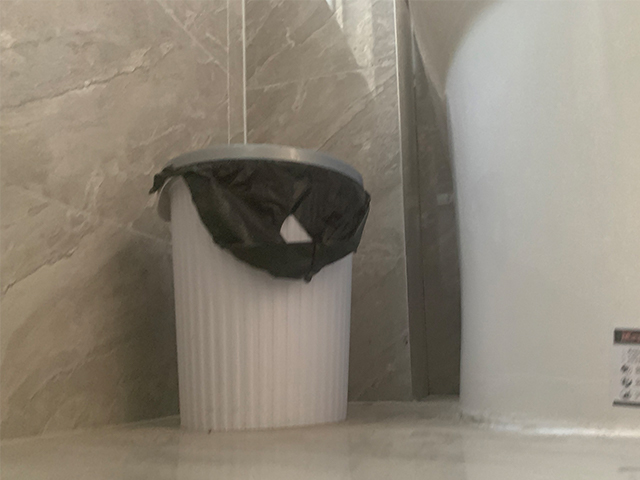closestool: (407, 1, 640, 438)
trashcan: (153, 144, 363, 431)
